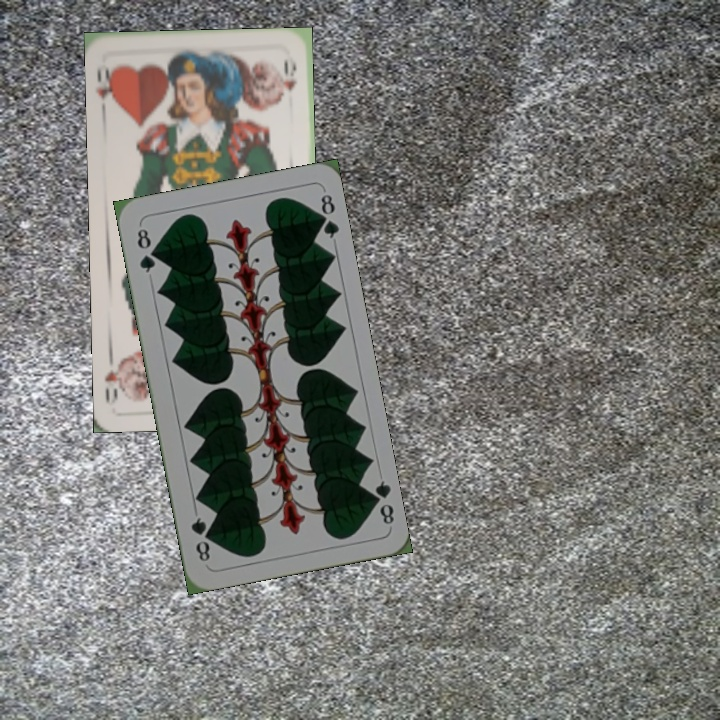G8: (365, 476, 397, 527), (133, 224, 159, 276)
HO: (92, 62, 119, 116)
